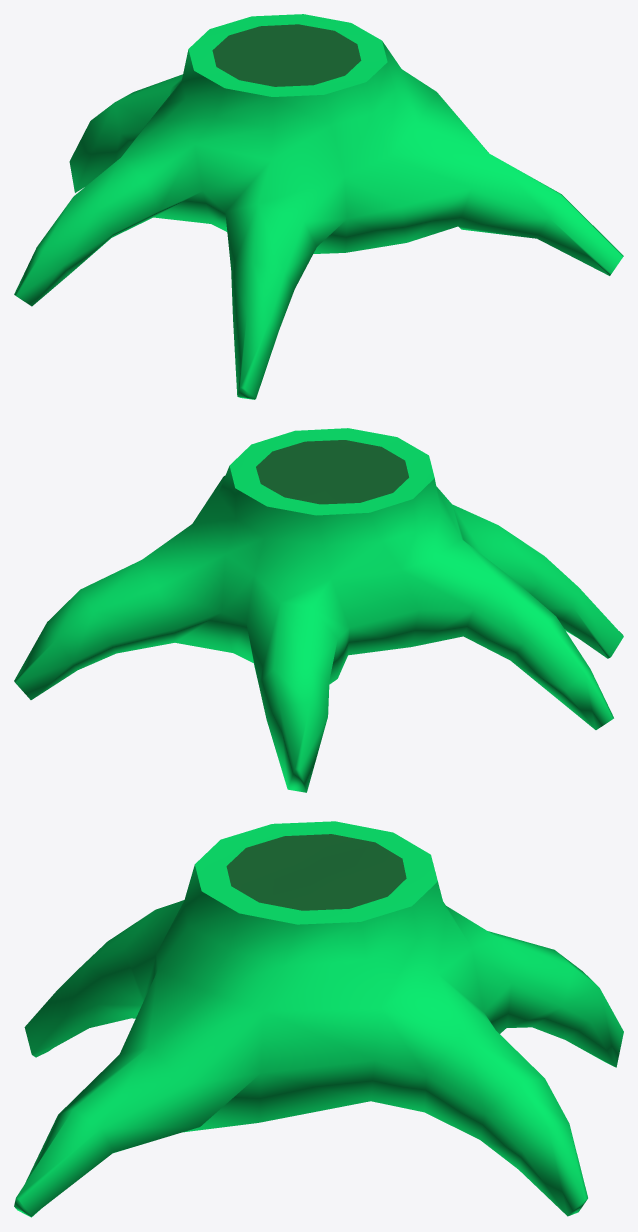
The model's file is obj_harvests_trees_leafy01_p00.fbx.
3 views of the same model, one above another, from view 1: azimuth 30°, elevation 25°; view 2: azimuth 150°, elevation 25°; view 3: azimuth 270°, elevation 25° (orthographic). The views are drawn at different scales.
Parts seen in each view (by area): view 1: chunk00; view 2: chunk00; view 3: chunk00.
Part boxes in pixels (box(x1,y1,x2,y2)): chunk00: box(14, 14, 623, 399); chunk00: box(14, 428, 623, 792); chunk00: box(14, 821, 623, 1217).
Size of the model in its own units: 9.34 by 4.11 by 8.3.
